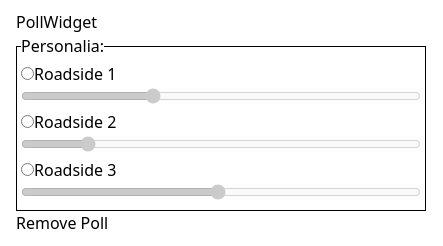
Scenario: Test Poll component › action
Step 1. Click the radio button labelled "Roadside 1" → (28, 74), box [21,67,34,80]
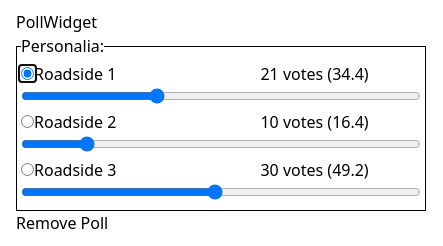
Now the radio button labelled "Roadside 1" is checked, box [21,67,34,80]
Now the slider named "rangeInput" below "Roadside 1" is enabled, box [21,88,421,104]
